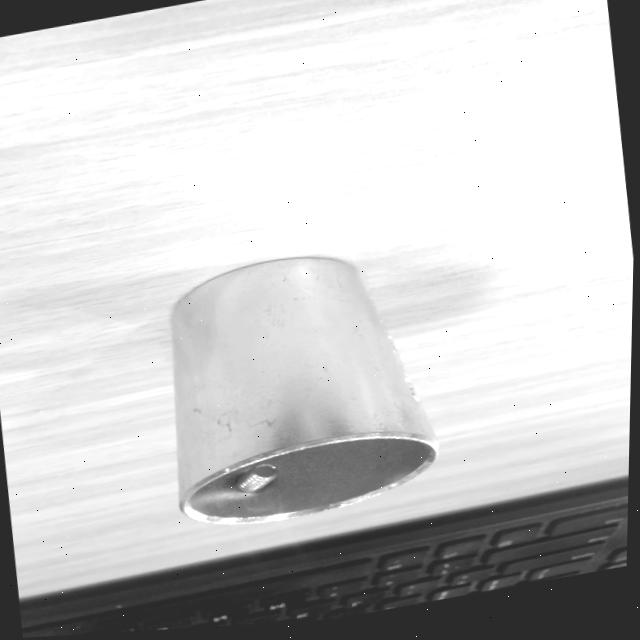Co_Nho: (131, 234, 446, 541)
